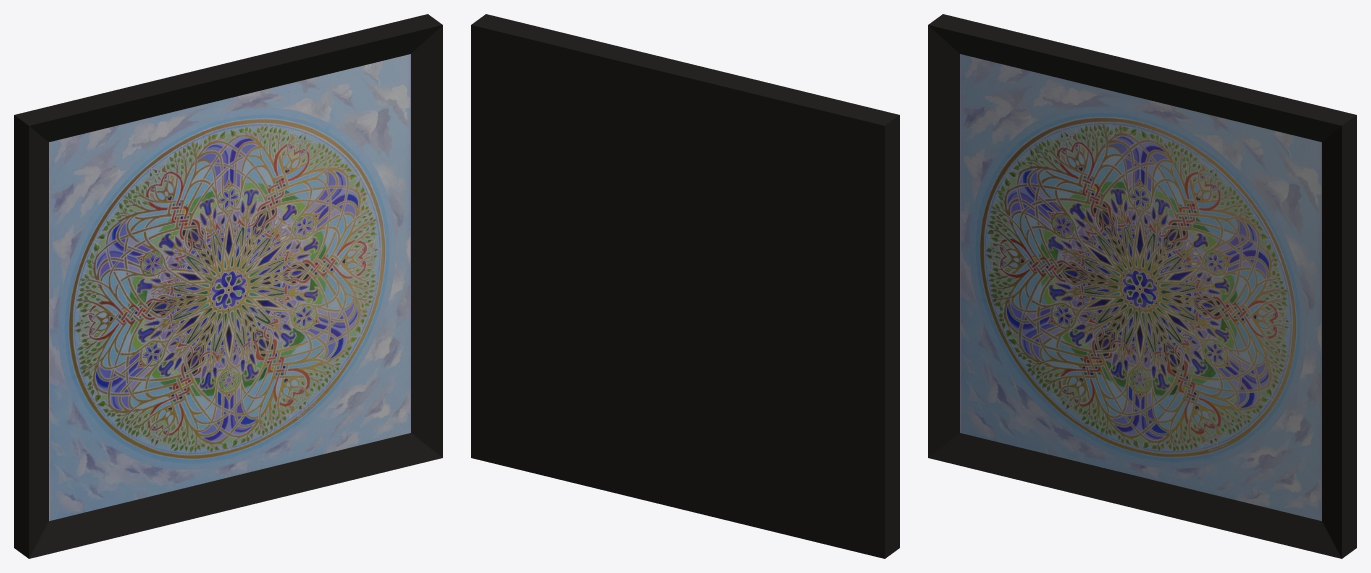
The model's file is english-bluebells-english-bluebells-v3-a2-stained-black-v2.glb.
The picture shows the model from 3 angles, left to right: view 1: azimuth 30°, elevation 25°; view 2: azimuth 150°, elevation 25°; view 3: azimuth 330°, elevation 25°; orthographic projection.
Parts seen in each view (by area): view 1: FramedPrint; view 2: FramedPrint; view 3: FramedPrint.
Part boxes in pixels (x1,y1,x2,y2): FramedPrint: (14, 14, 442, 558); FramedPrint: (471, 14, 899, 558); FramedPrint: (928, 14, 1356, 558).
Bounding box in the file's own units: 0.48 × 0.48 × 0.03.
Materials: 2 (1 with a texture image).
